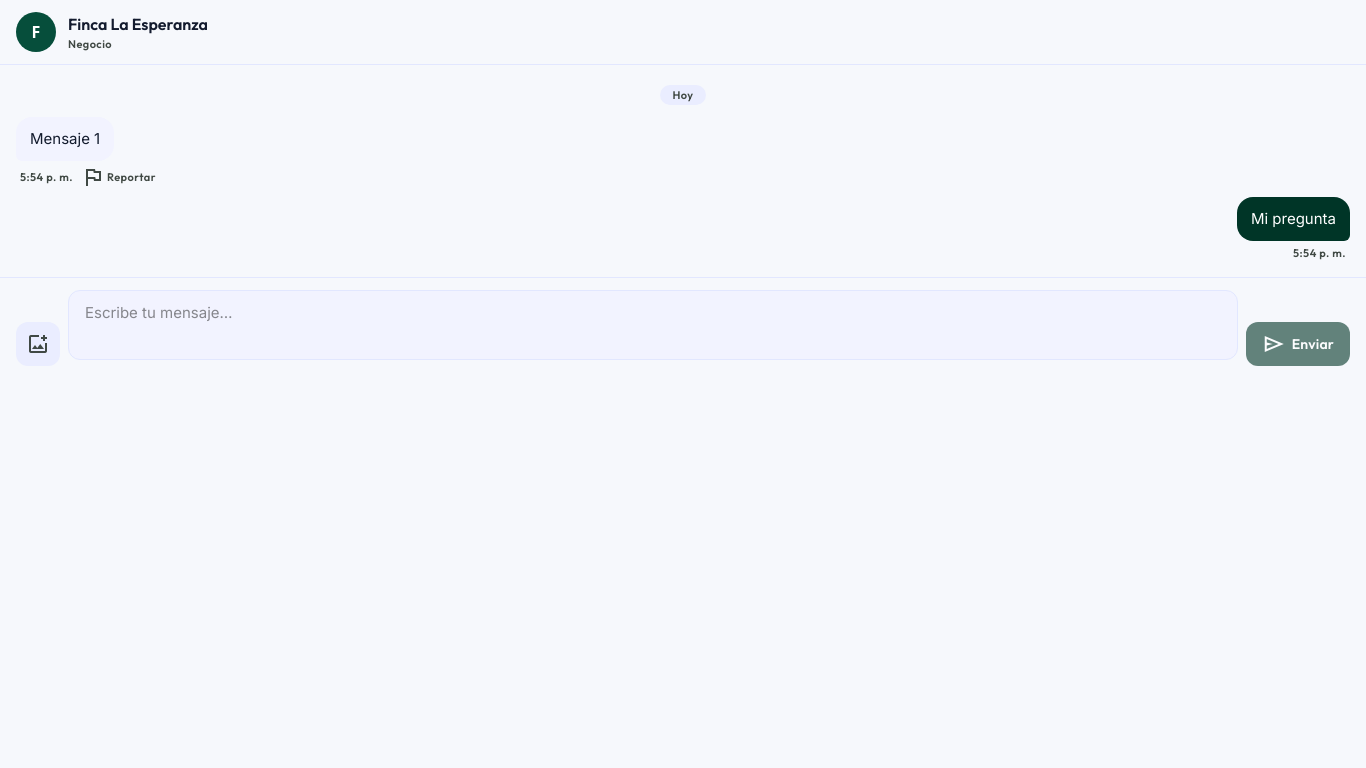
Scenario: HiloConversacion › si el reporte falla muestra el motivo (por ejemplo, que ya lo había reportado)
Expected: the text "Mensaje 1" is shown, [30, 127, 100, 151]
Step 1. Click the button with aria-label "Reportar este mensaje" → x=118, y=177, box [81, 165, 156, 189]
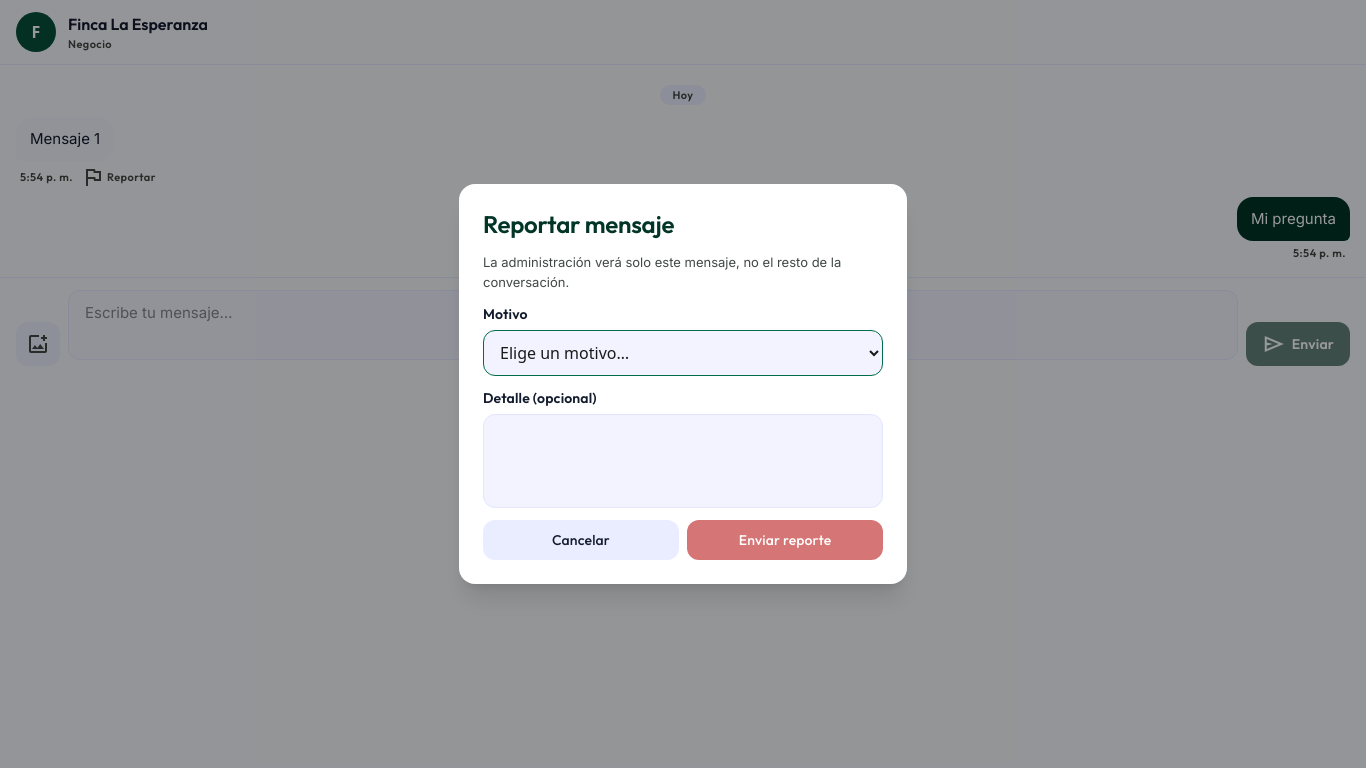
Step 2. Select "Spam o publicidad" in the dropdown labelled "Motivo" → x=683, y=353, box [483, 330, 883, 376]
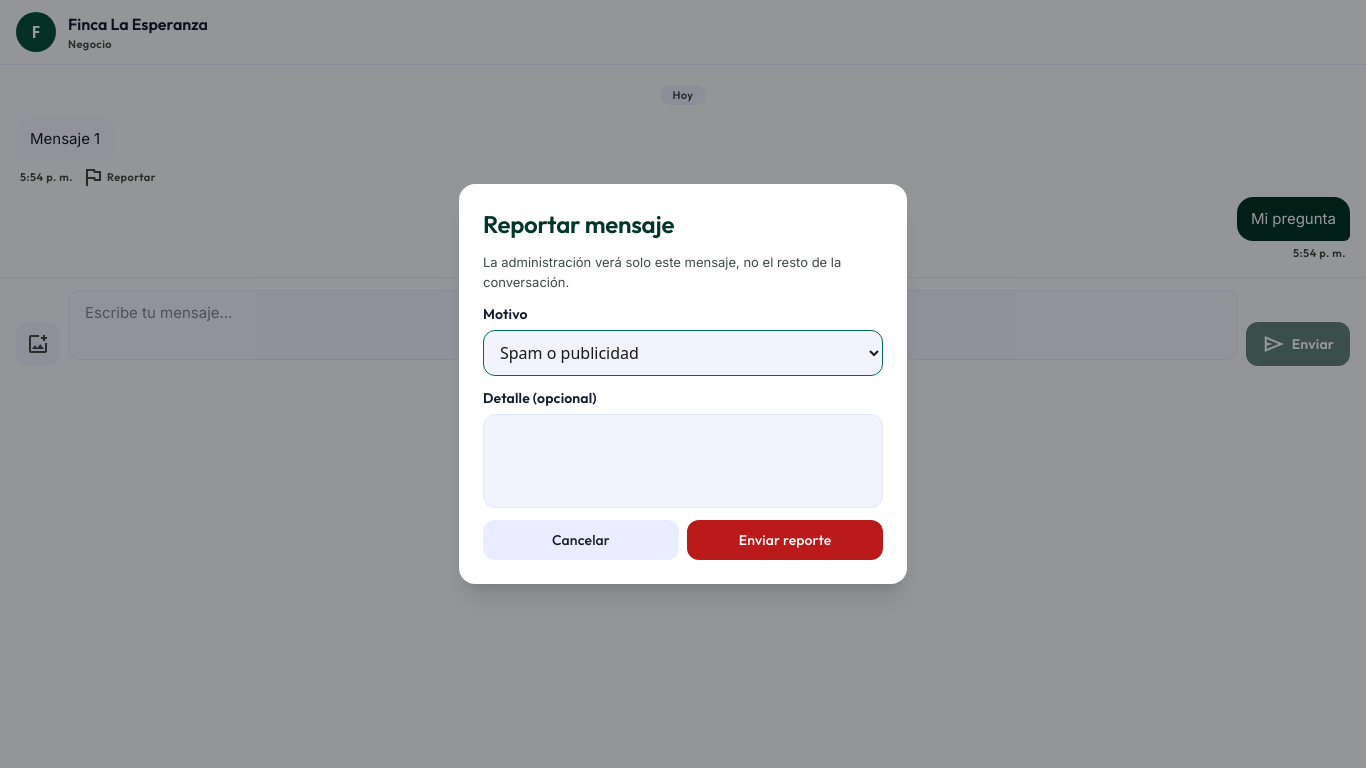
Step 3. Click the button "Enviar reporte" → x=785, y=540, box [687, 520, 883, 560]
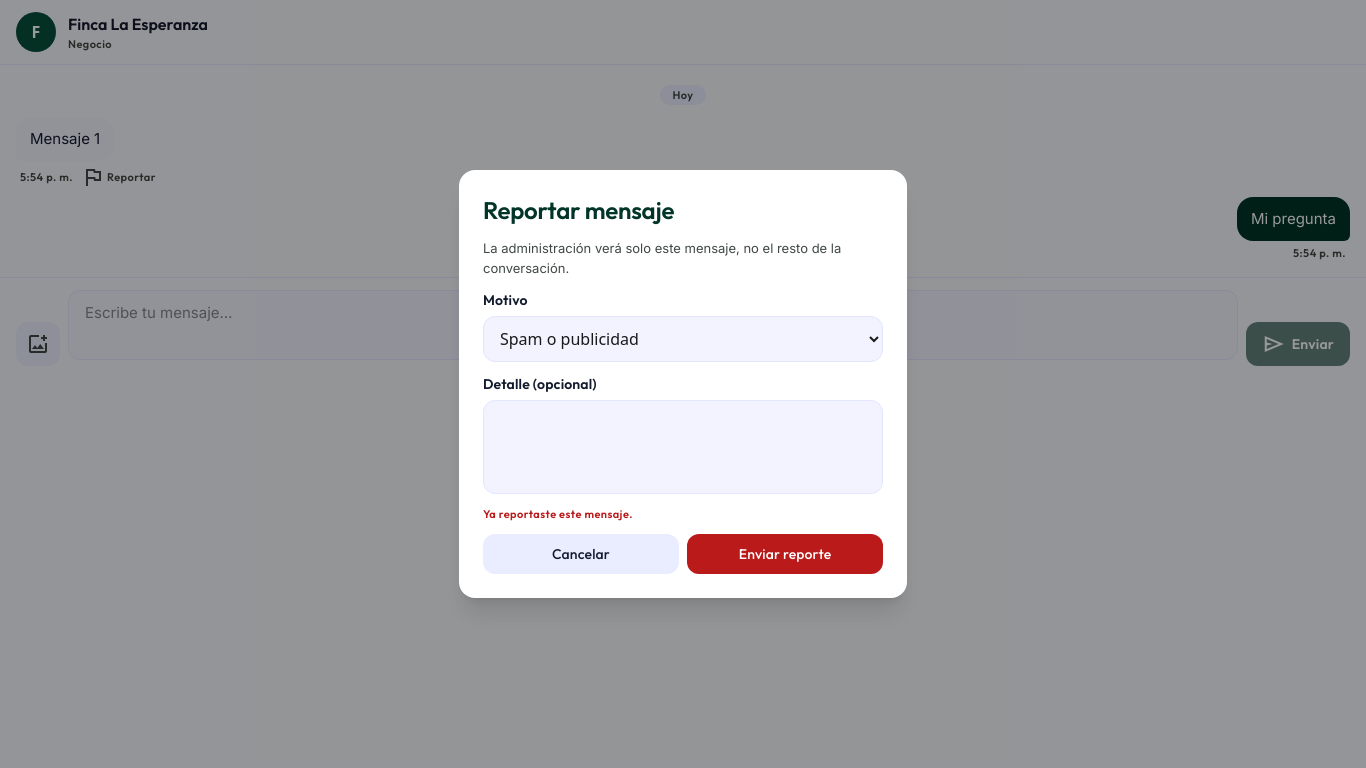
Result: the message reads "Ya reportaste este mensaje." at [483, 507, 633, 521]
